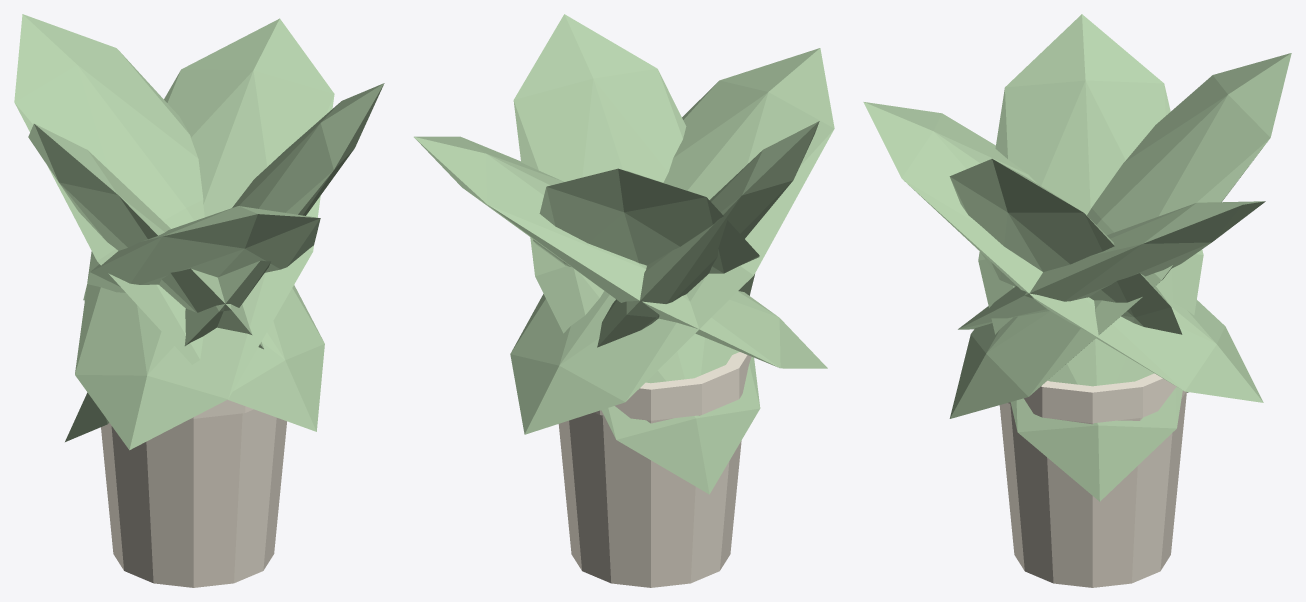
Rendered from cozy-home-interiors-bath-plant-6fc45c9e.glb.
3 renders of one model, left to right at view 1: azimuth 30°, elevation 25°; view 2: azimuth 150°, elevation 25°; view 3: azimuth 270°, elevation 25°, orthographic. The views are drawn at different scales.
Parts seen in each view (by area): view 1: bath-plant; view 2: bath-plant; view 3: bath-plant.
Part boxes in pixels (<box>): bath-plant: <box>14,14,384,587</box>; bath-plant: <box>414,14,834,587</box>; bath-plant: <box>863,14,1291,587</box>.
Bounding box in the file's own units: 0.2973 × 0.4127 × 0.3416.
